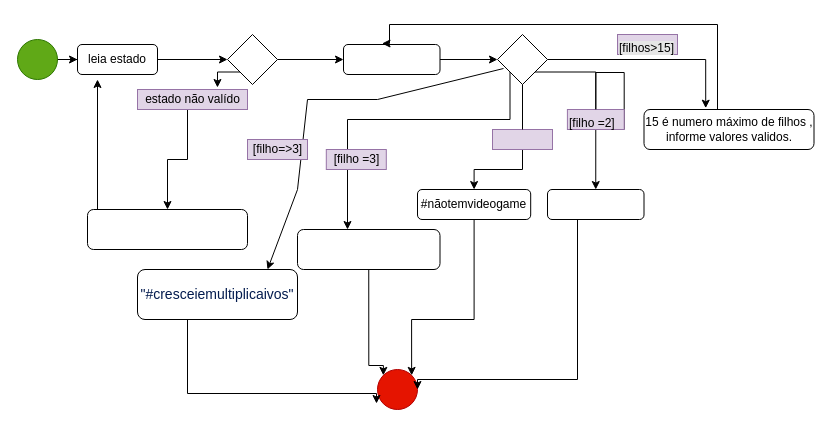
This 832x429 diagram has some shape labels left out. The shapes that lost their labels are listed below. From the top down, each one's centre as x and y in pixels, then its label:
(x=391, y=59): leia quantidade de filhos
(x=522, y=139): [filho =1]
(x=595, y=204): " #nãotemtv"
(x=167, y=229): "informe um estado valido e brasileiro da próxima vez."
(x=368, y=249): "#tv #internet #videogame"
